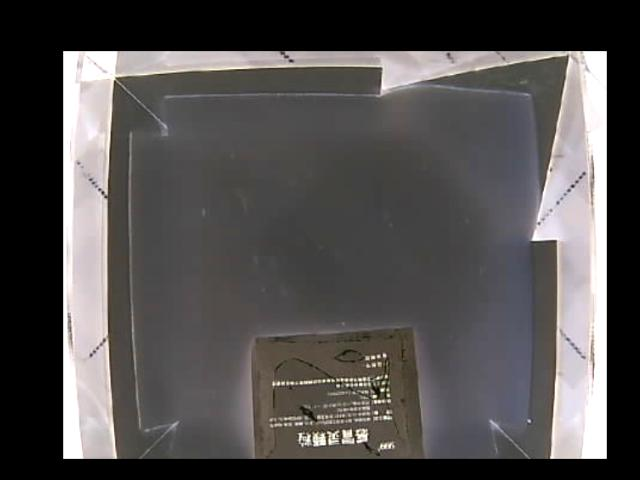Medicine: (249, 324, 422, 458)
